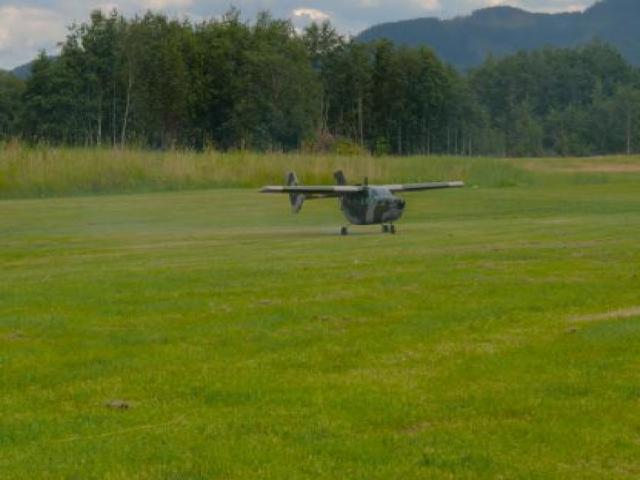uav: (250, 167, 467, 230)
